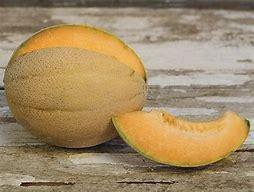Melon Ripe: (4, 22, 148, 148), (112, 110, 251, 167)
